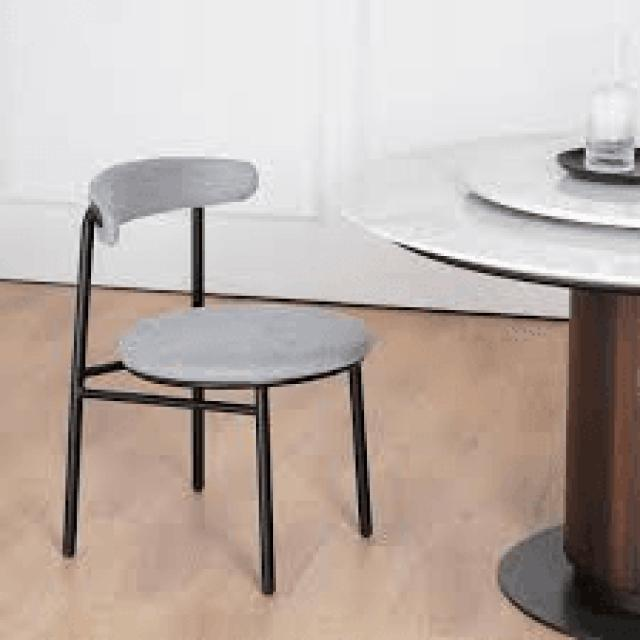chair: (58, 150, 377, 598), (90, 154, 376, 390)
